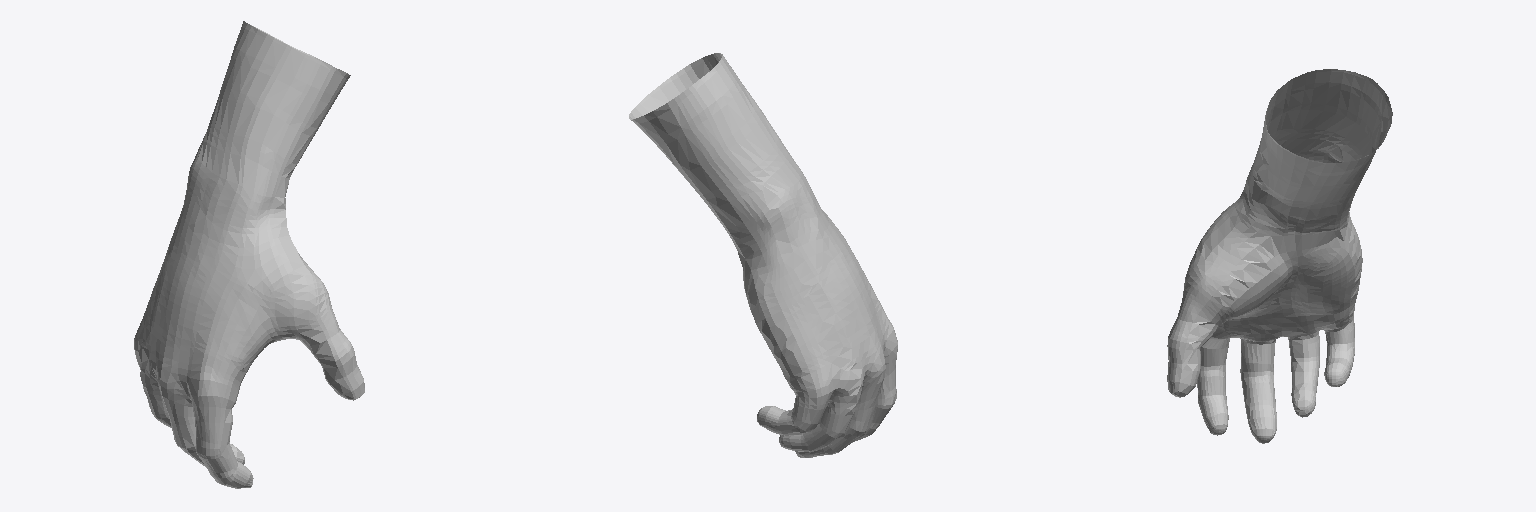
Rendered from hand.obj.
3 views of the same model, side by side, from view 1: azimuth 30°, elevation 25°; view 2: azimuth 150°, elevation 25°; view 3: azimuth 270°, elevation 25° (orthographic).
Visible parts, largest first — view 1: Hand_Male; view 2: Hand_Male; view 3: Hand_Male.
Boxes of the visible parts, <box> form: Hand_Male: <box>134,21,364,488</box>; Hand_Male: <box>629,53,897,457</box>; Hand_Male: <box>1167,69,1392,443</box>.
Bounding box in the file's own units: 12.82 × 23.32 × 11.88.